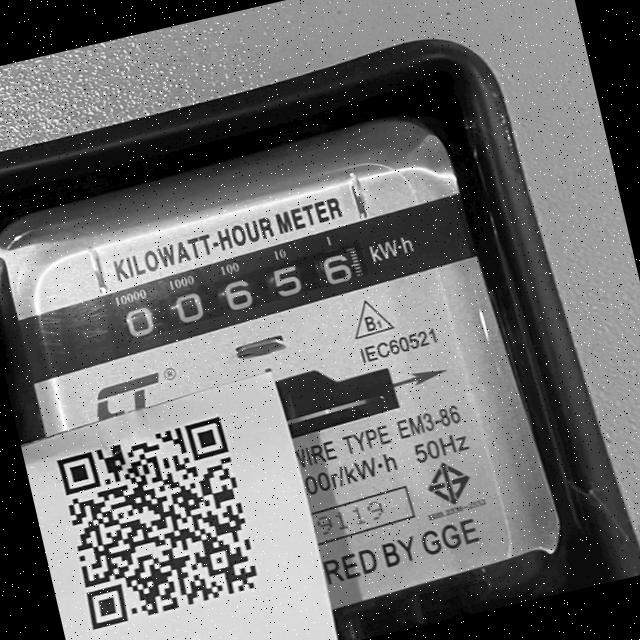qr_code: (49, 407, 265, 632)
